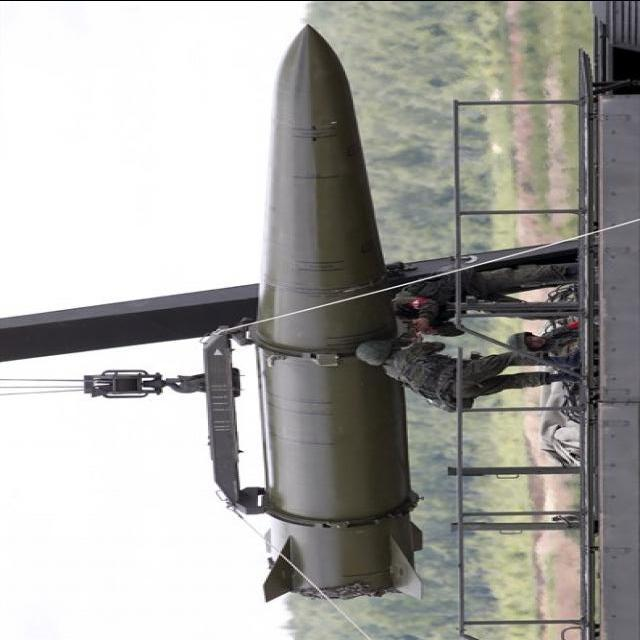Missile: (248, 0, 411, 609)
